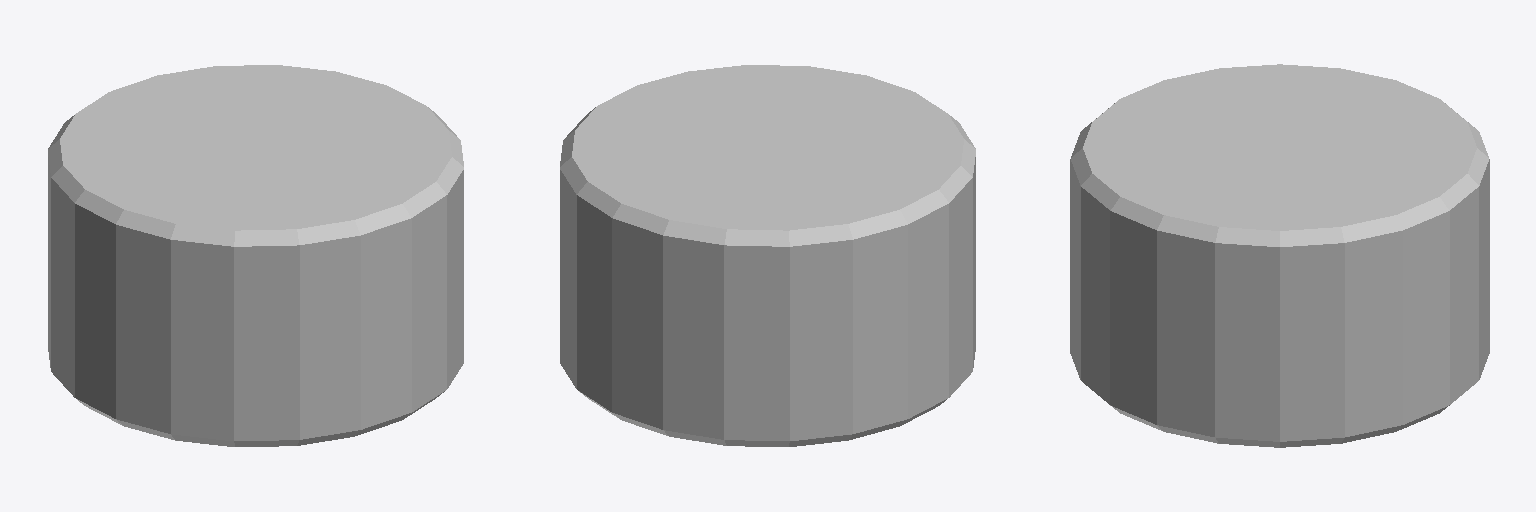
File: Router.obj
3 renders of one model, left to right at view 1: azimuth 30°, elevation 25°; view 2: azimuth 150°, elevation 25°; view 3: azimuth 270°, elevation 25°, orthographic.
Visible parts, largest first — view 1: Router; view 2: Router; view 3: Router.
Part boxes in pixels (x1,y1,x2,y2): Router: (48, 65, 463, 446); Router: (560, 65, 975, 446); Router: (1070, 64, 1489, 447).
Bounding box in the file's own units: 1.09 × 0.6218 × 1.09.